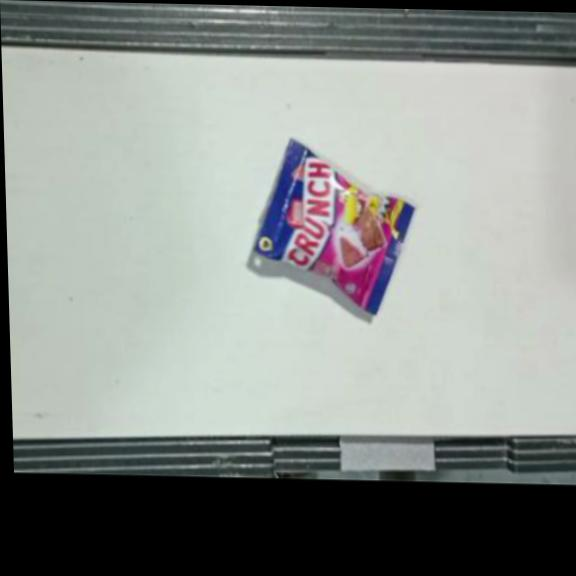Plastik: (249, 138, 418, 318)
